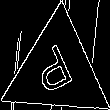P_SE: (32, 40, 82, 101)
